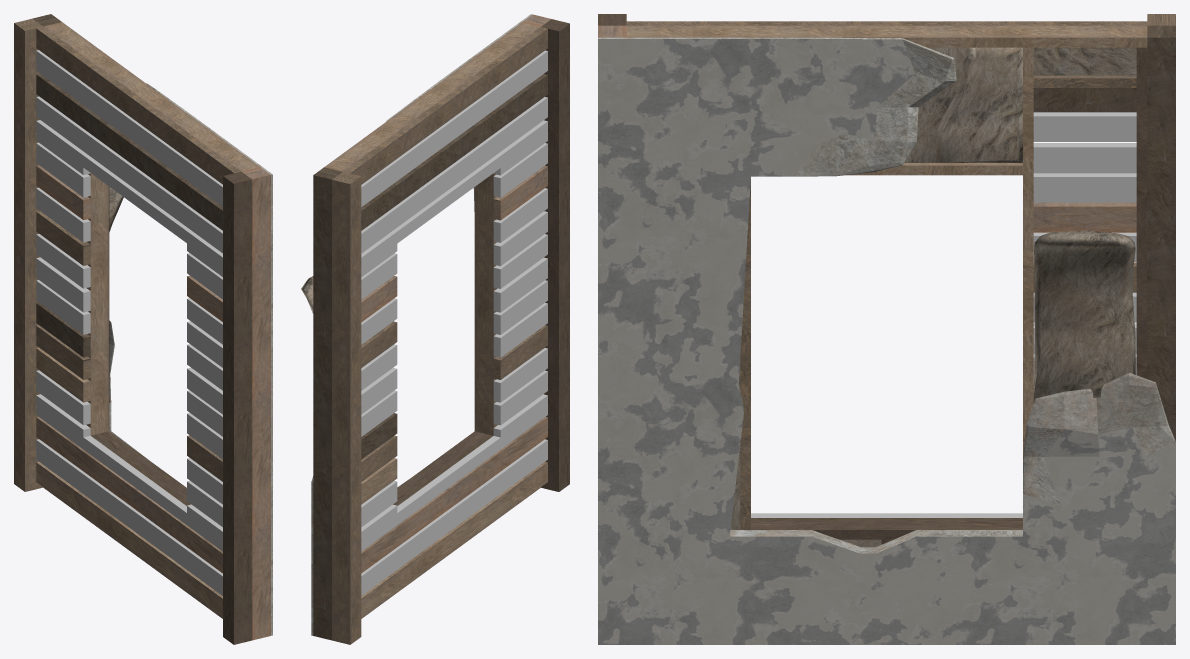
File: WoodWallCWindow.fbx
3 views of the same model, side by side, from view 1: azimuth 30°, elevation 25°; view 2: azimuth 150°, elevation 25°; view 3: azimuth 270°, elevation 25° (orthographic). The views are drawn at different scales.
Parts seen in each view (by area): view 1: WoodWallCWindow; view 2: WoodWallCWindow; view 3: WoodWallCWindow.
Part boxes in pixels (bbox=[...]): WoodWallCWindow: bbox=[14, 14, 272, 644]; WoodWallCWindow: bbox=[301, 14, 569, 644]; WoodWallCWindow: bbox=[598, 14, 1175, 644].
Bounding box in the file's own units: 63.87 × 374 × 323.
